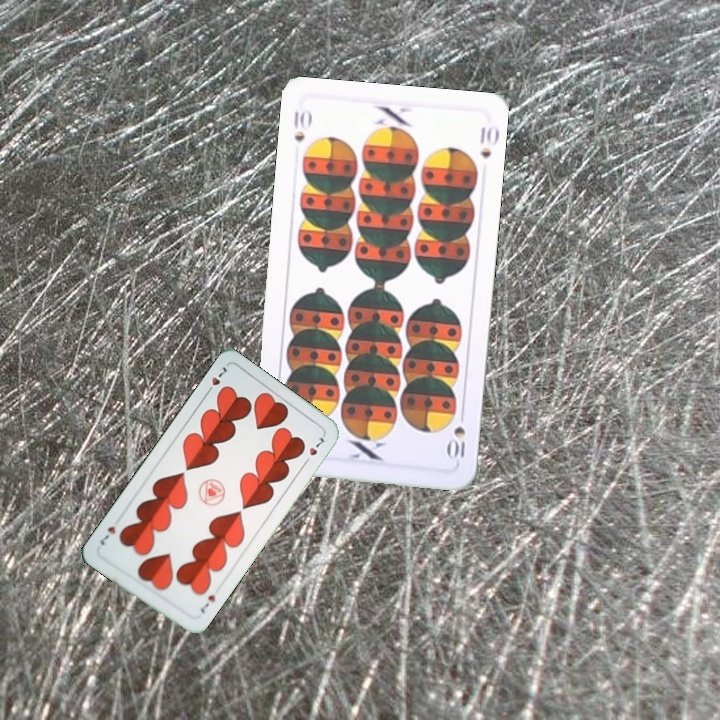H7: (201, 362, 230, 398), (196, 590, 218, 616)
S10: (444, 406, 468, 462), (289, 106, 314, 144)
